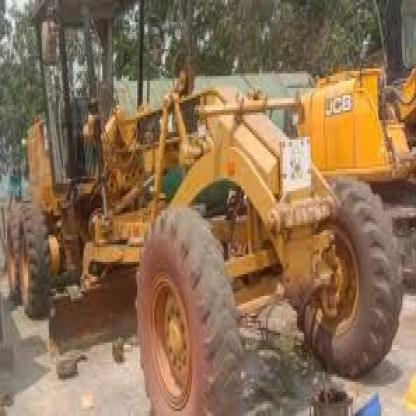bull_dozer/loader/grader: (7, 5, 412, 413)
